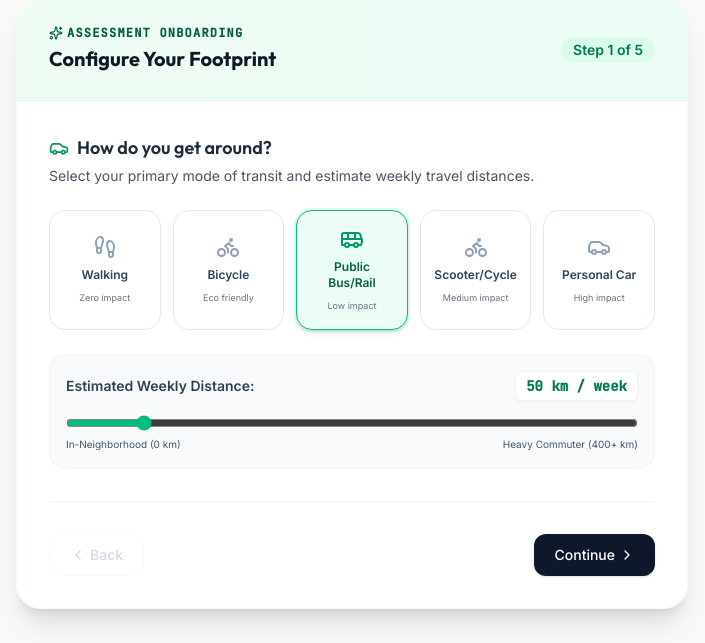
Test: Onboarding Workflow › correctly proceeds between distinct survey pages
The width and height of the screenshot is (705, 643).
Expected: the heading "How do you get around?" is shown, [49, 136, 272, 159]
# Find and click Next button
Click the button "Continue" at [595, 554], box [534, 534, 655, 576]
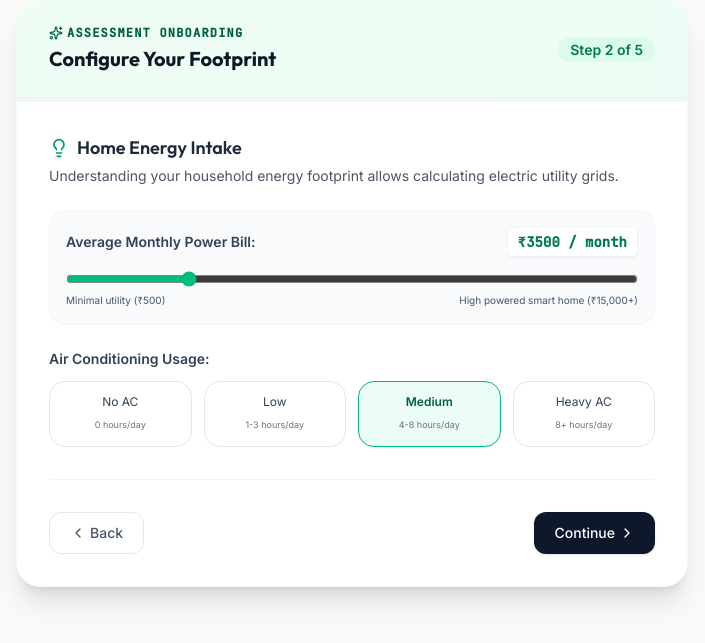
Now the heading "Home Energy Intake" is shown, box [49, 136, 242, 159]
